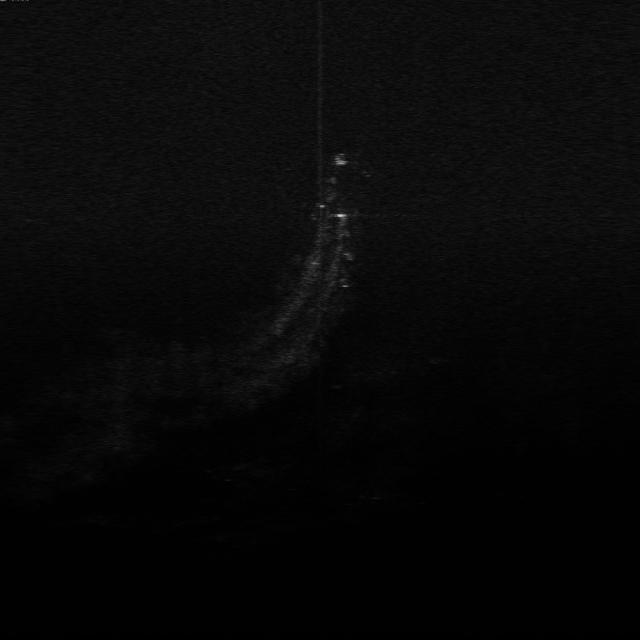rov: (332, 148, 352, 169)
